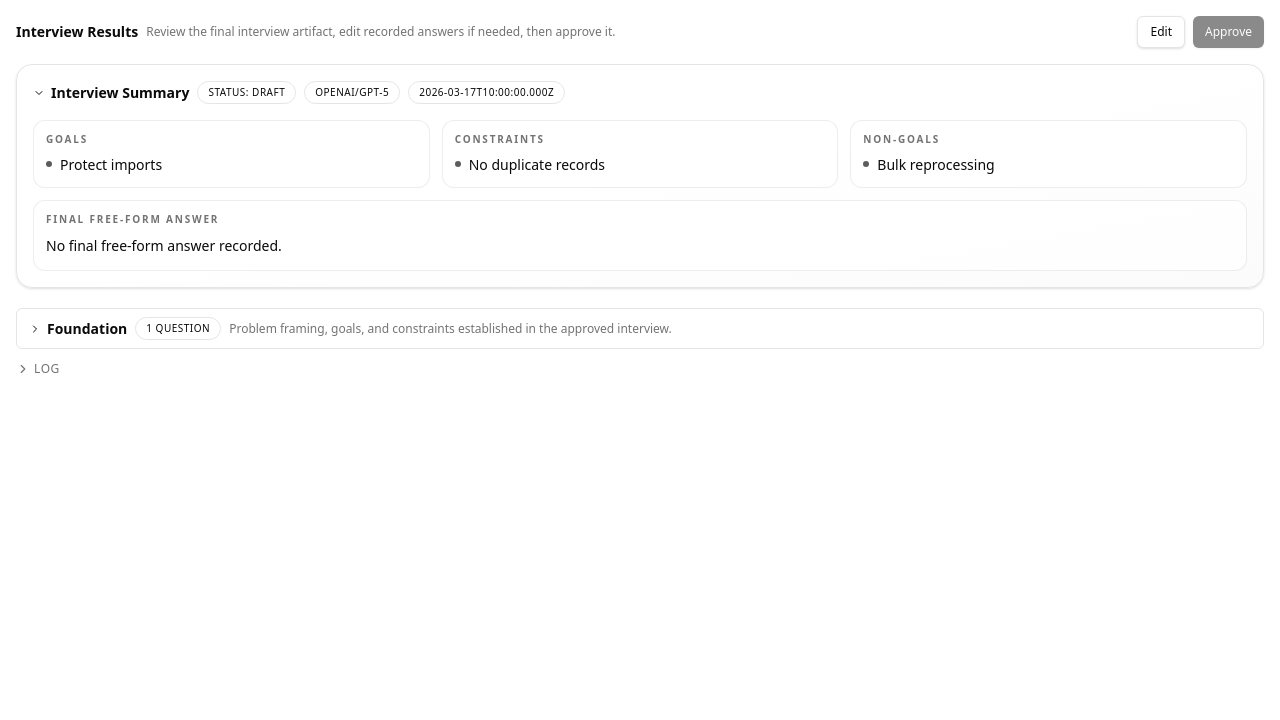
Test: Interview approval UI › shows the Interview cascade warning copy after PRD and Beads planning have started
Click the button "Edit".
click(1161, 32)  # box left=1138, top=16, right=1185, bottom=48
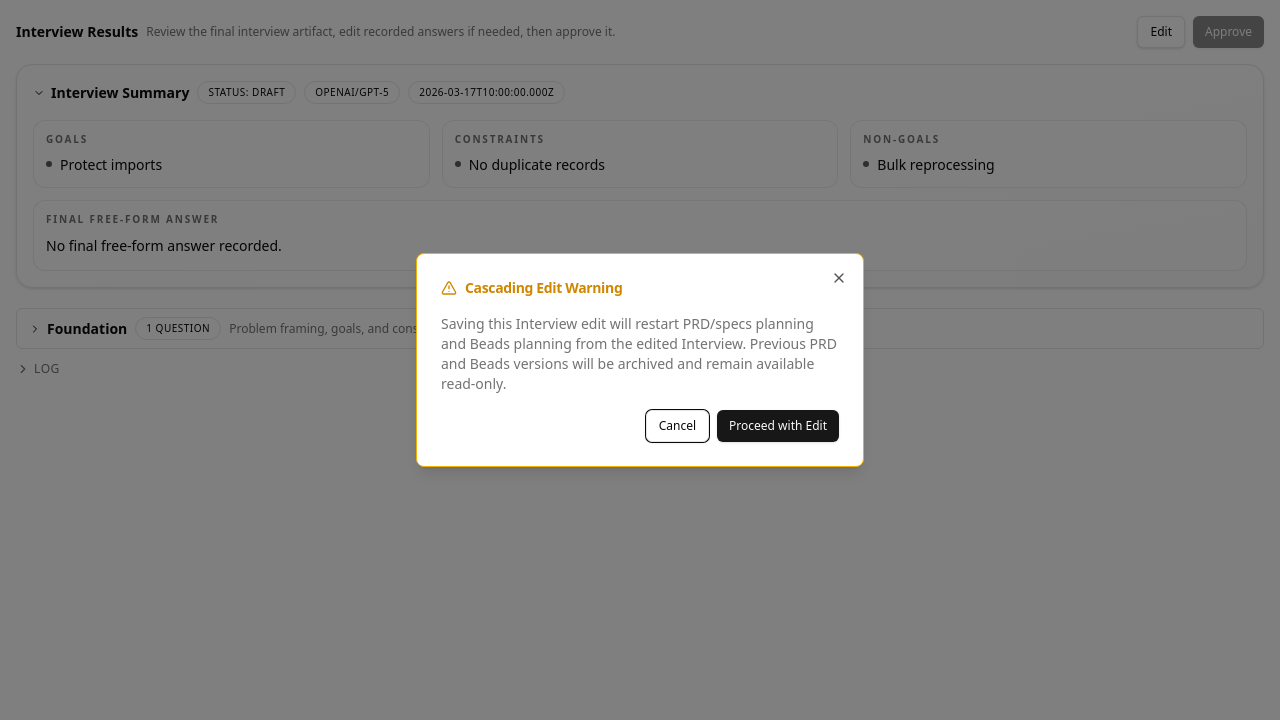
Result: the heading "Cascading Edit Warning" is shown at left=441, top=278, right=622, bottom=297
Result: the text "Saving this Interview edit will restart PRD/specs planning and Beads planning from the edited Interview. Previous PRD an" is shown at left=441, top=314, right=837, bottom=393
